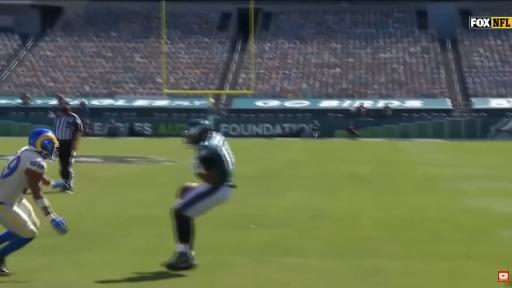Helmet: (29, 129, 58, 160), (184, 120, 212, 145)
Jersey: (0, 147, 46, 204), (196, 132, 234, 183)
Player: (162, 120, 235, 270), (0, 129, 67, 274)
